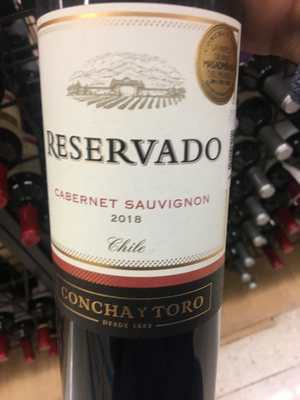reservado cabernet sauvignon: (32, 6, 243, 400)
